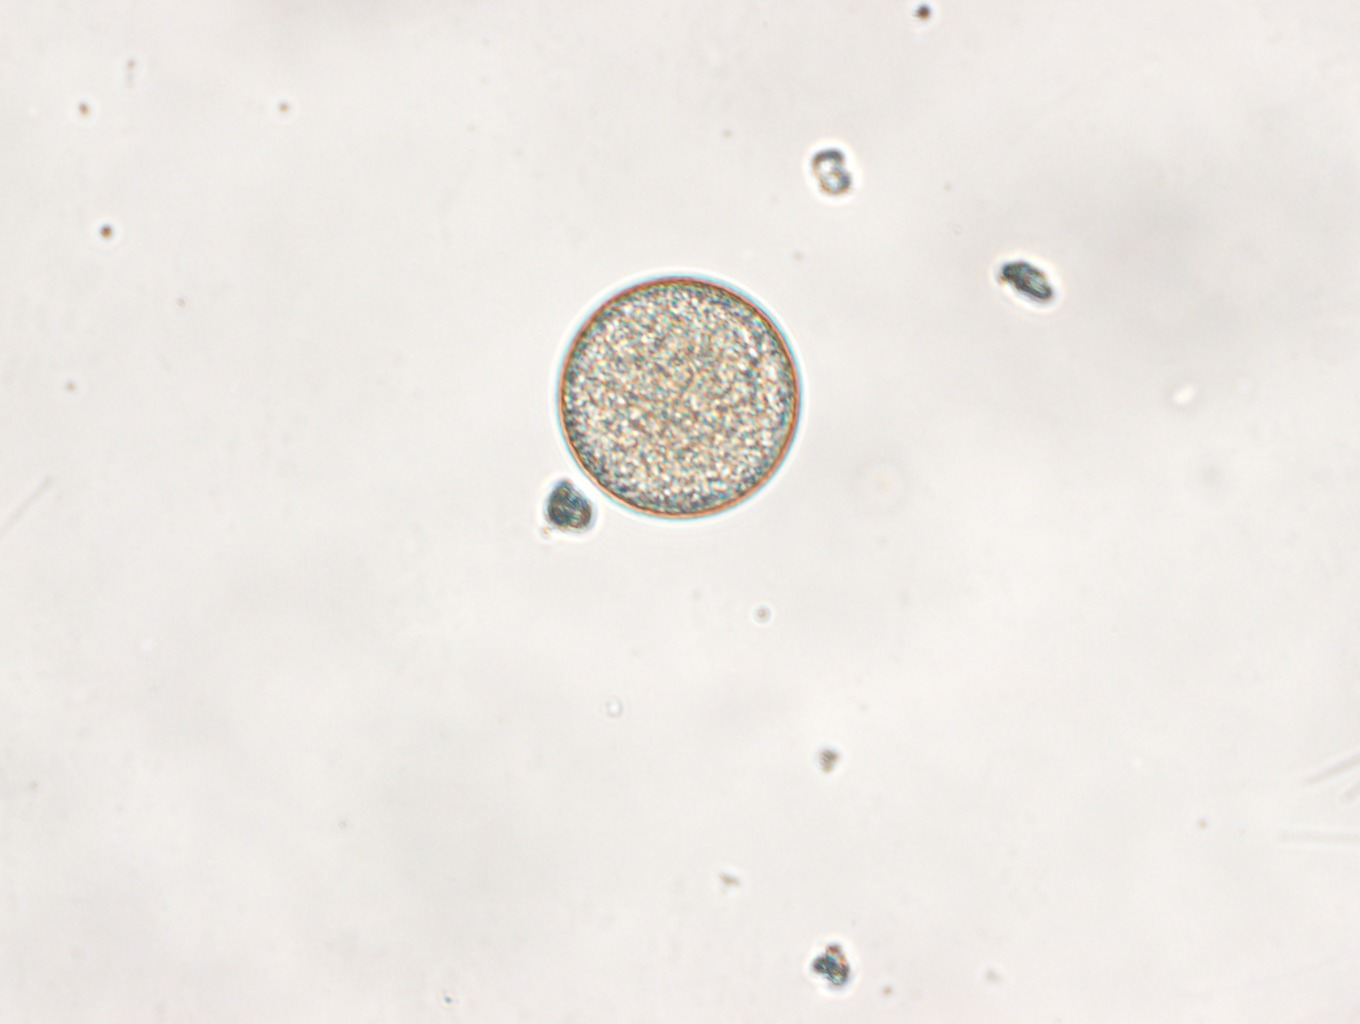coscinodiscus: (554, 272, 803, 522)
